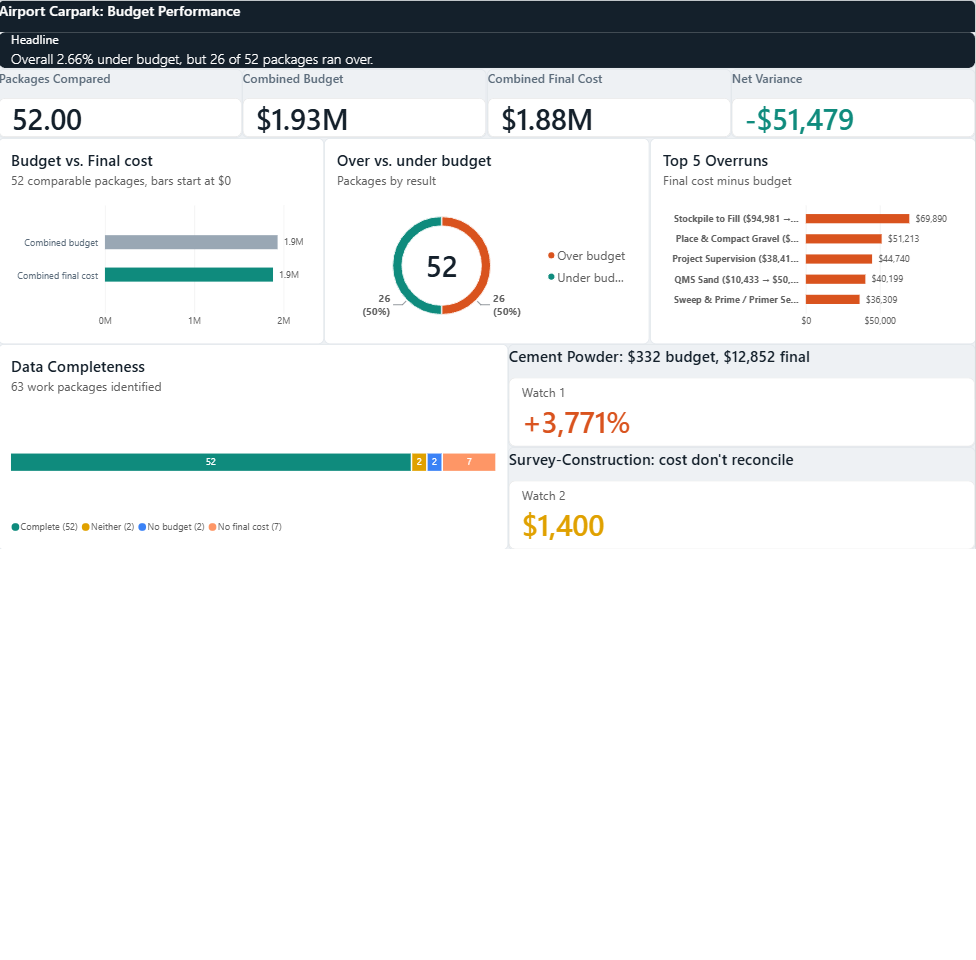

What the dashboard file says about the page in this screenshot:
{"tool":"powerbi","page":{"name":"Airport Carpark: Budget Performance","canvas":[1280,720],"ordinal":0},"visuals":[{"type":"cardVisual","title":"Packages Compared","fields":{"Data":["Sum(Summary.Value)"]},"box":[0,90,320,90],"z":1000},{"type":"cardVisual","title":"Combined Budget","fields":{"Data":["Sum(Summary.Value)"]},"box":[320,90,320,90],"z":2000},{"type":"cardVisual","title":"Combined Final Cost","fields":{"Data":["Sum(Summary.Value)"]},"box":[640,90,320,90],"z":3000},{"type":"cardVisual","title":"Net Variance","fields":{"Data":["Summary.Net Variance Text"]},"box":[960,90,320,90],"z":4000},{"type":"barChart","title":"Budget vs. Final cost","fields":{"Category":["Summary.Metric"],"Y":["Sum(Summary.Value)"]},"box":[0,180,427,270],"z":5000},{"type":"donutChart","title":"Over vs. under budget","fields":{"Category":["Over_Under.Result"],"Y":["Sum(Over_Under.Packages)"]},"box":[427,180,426,270],"z":5001},{"type":"clusteredBarChart","title":"Top 5 Overruns","fields":{"Category":["Top_Overruns.Package Label"],"Y":["Sum(Top_Overruns.Overrun)"]},"box":[853,180,427,270],"z":5002},{"type":"hundredPercentStackedBarChart","title":"Data Completeness","fields":{"Series":["Completeness.Status Label"],"Y":["Sum(Completeness.Packages)"]},"box":[0,450,668,270],"z":5003},{"type":"cardVisual","title":"Cement Powder: $332 budget, $12,852 final","fields":{"Data":["Summary.Watch1"]},"box":[668,450,612,135],"z":5004},{"type":"cardVisual","title":"Survey-Construction: cost don''t reconcile","fields":{"Data":["Summary.Watch2"]},"box":[668,585,612,135],"z":5005},{"type":"cardVisual","title":"Airport Carpark: Budget Performance","fields":{"Data":["Summary.Headline"]},"box":[0,0,1280,90],"z":5006}]}

Visuals, with their boxes on the page's 1280x720 design canvas (x1, y1, x2, y2). These are canvas units, not pixel positions in the 976x960 screenshot, which may show the page scaled, cropped or inside an application window:
"Packages Compared" cardVisual: x1=0 y1=90 x2=320 y2=180
"Combined Budget" cardVisual: x1=320 y1=90 x2=640 y2=180
"Combined Final Cost" cardVisual: x1=640 y1=90 x2=960 y2=180
"Net Variance" cardVisual: x1=960 y1=90 x2=1280 y2=180
"Budget vs. Final cost" barChart: x1=0 y1=180 x2=427 y2=450
"Over vs. under budget" donutChart: x1=427 y1=180 x2=853 y2=450
"Top 5 Overruns" clusteredBarChart: x1=853 y1=180 x2=1280 y2=450
"Data Completeness" hundredPercentStackedBarChart: x1=0 y1=450 x2=668 y2=720
"Cement Powder: $332 budget, $12,852 final" cardVisual: x1=668 y1=450 x2=1280 y2=585
"Survey-Construction: cost don''t reconcile" cardVisual: x1=668 y1=585 x2=1280 y2=720
"Airport Carpark: Budget Performance" cardVisual: x1=0 y1=0 x2=1280 y2=90
